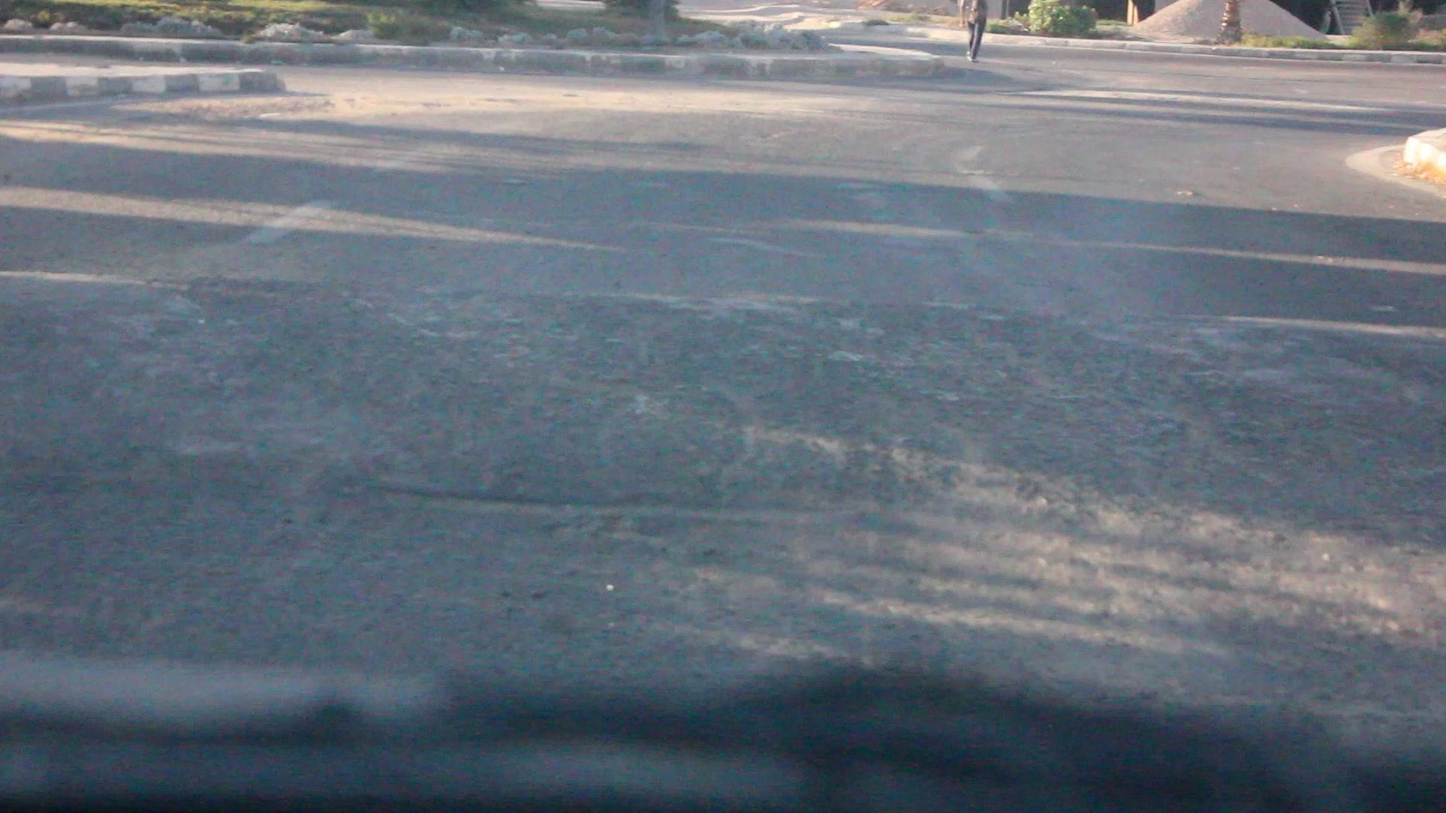Bump: (0, 271, 1445, 549)
